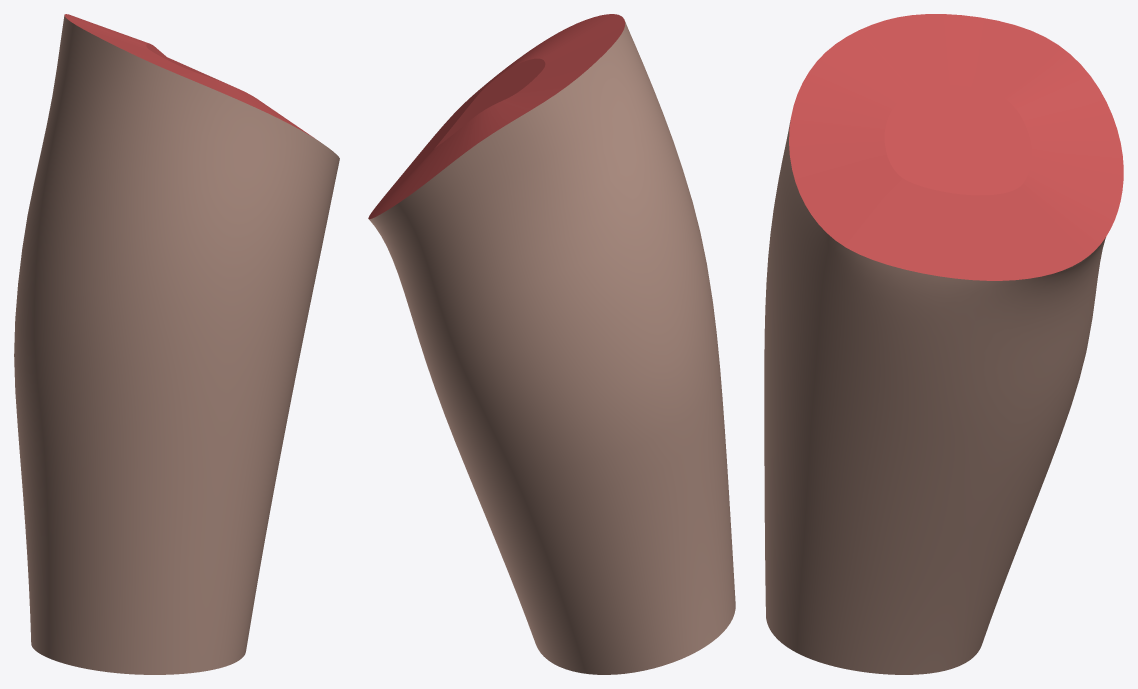
3 views of the same model, side by side, from view 1: azimuth 30°, elevation 25°; view 2: azimuth 150°, elevation 25°; view 3: azimuth 270°, elevation 25° (orthographic). The views are drawn at different scales.
Visible parts, largest first — view 1: polySurface40; view 2: polySurface40; view 3: polySurface40.
Part boxes in pixels (bbox=[...]): polySurface40: bbox=[14, 14, 339, 674]; polySurface40: bbox=[368, 14, 735, 674]; polySurface40: bbox=[764, 14, 1123, 674].
Size of the model in its own units: 4 by 8.22 by 4.29.
